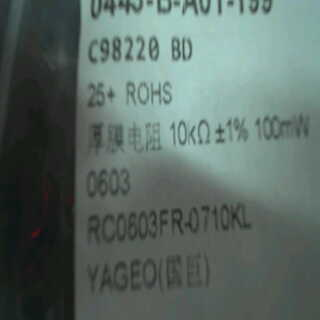10kR: (169, 114, 219, 153)
